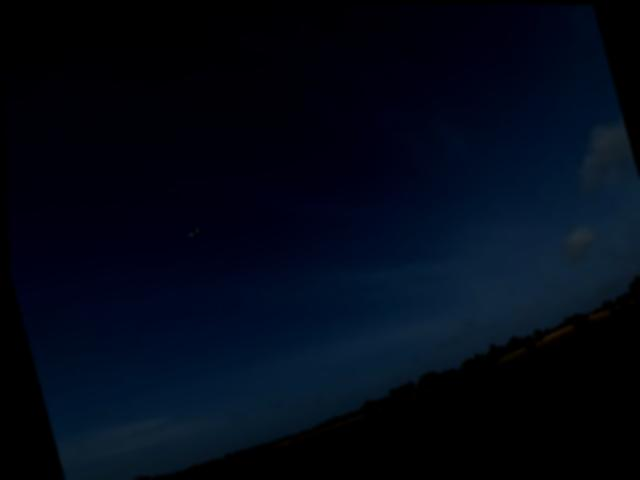uav: (181, 219, 204, 240)
